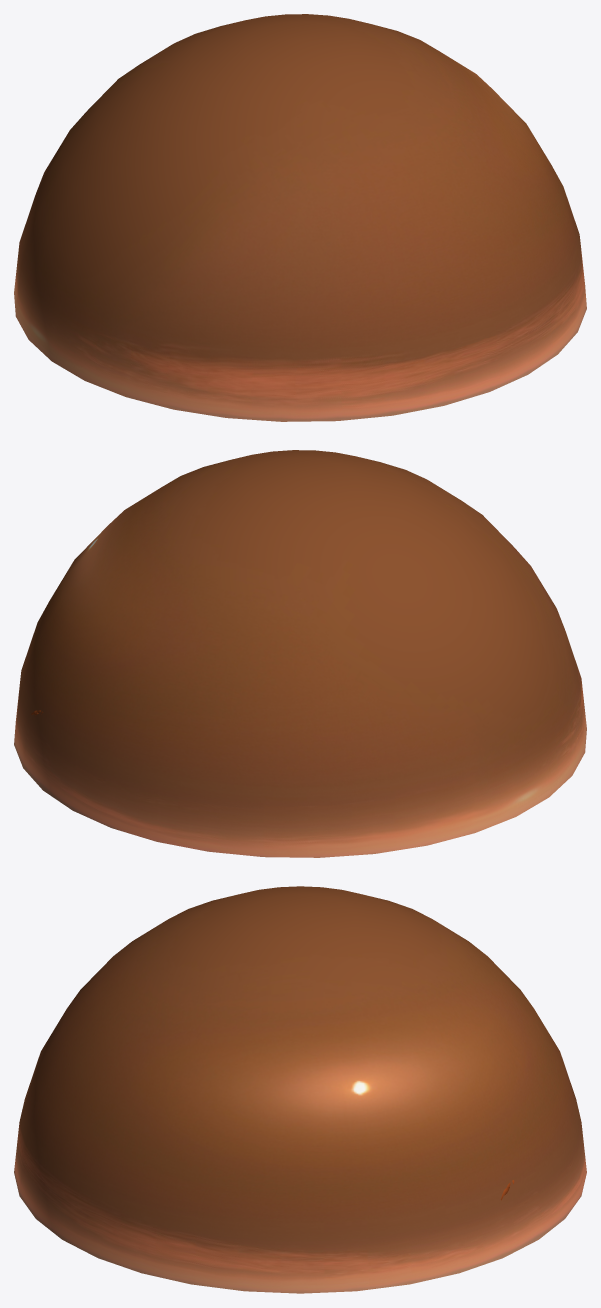
The model's file is mars2.fbx.
3 renders of one model, top to bottom at view 1: azimuth 30°, elevation 25°; view 2: azimuth 150°, elevation 25°; view 3: azimuth 270°, elevation 25°, orthographic.
Parts seen in each view (by area): view 1: Sphere; view 2: Sphere; view 3: Sphere.
Part boxes in pixels (x1,y1,x2,y2): Sphere: (14,14,586,421); Sphere: (14,450,586,857); Sphere: (14,886,586,1293).
Bounding box in the file's own units: 13916 × 6958 × 13916.
9 materials, 1 textured.
